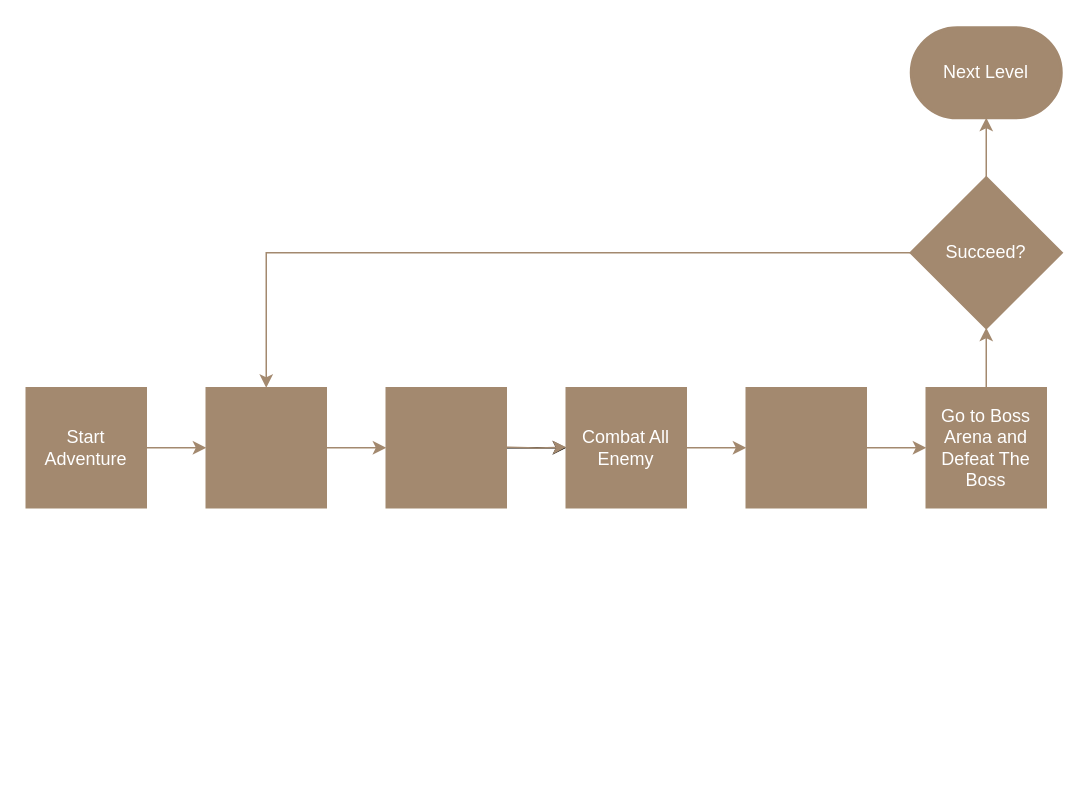
Image size: 1089x806. Some labels were removed from this diagram. The shapes that lost their labels are listed below. From the top down, each one's centre as x and y in pixels, then its label:
At pixel 265 447: "Select Stage".
At pixel 445 447: "Gameplay Show".
At pixel 805 447: "Cellect XP, Soul, and Equipment".
